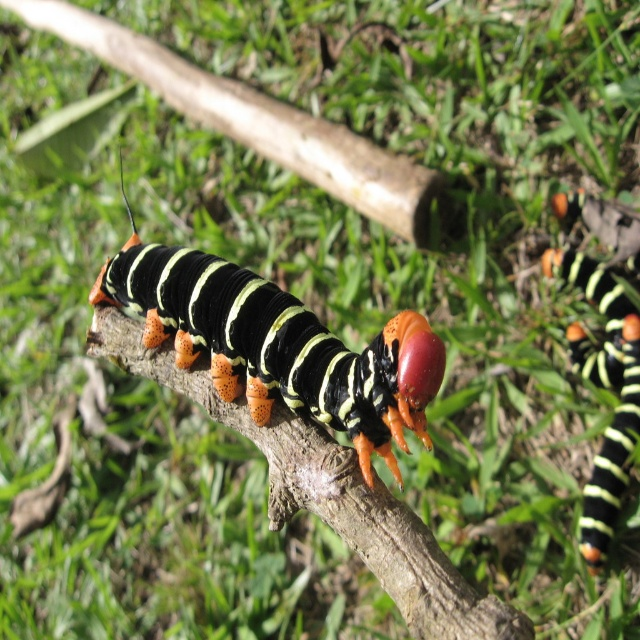Moths and butterflies: (88, 145, 640, 576)
